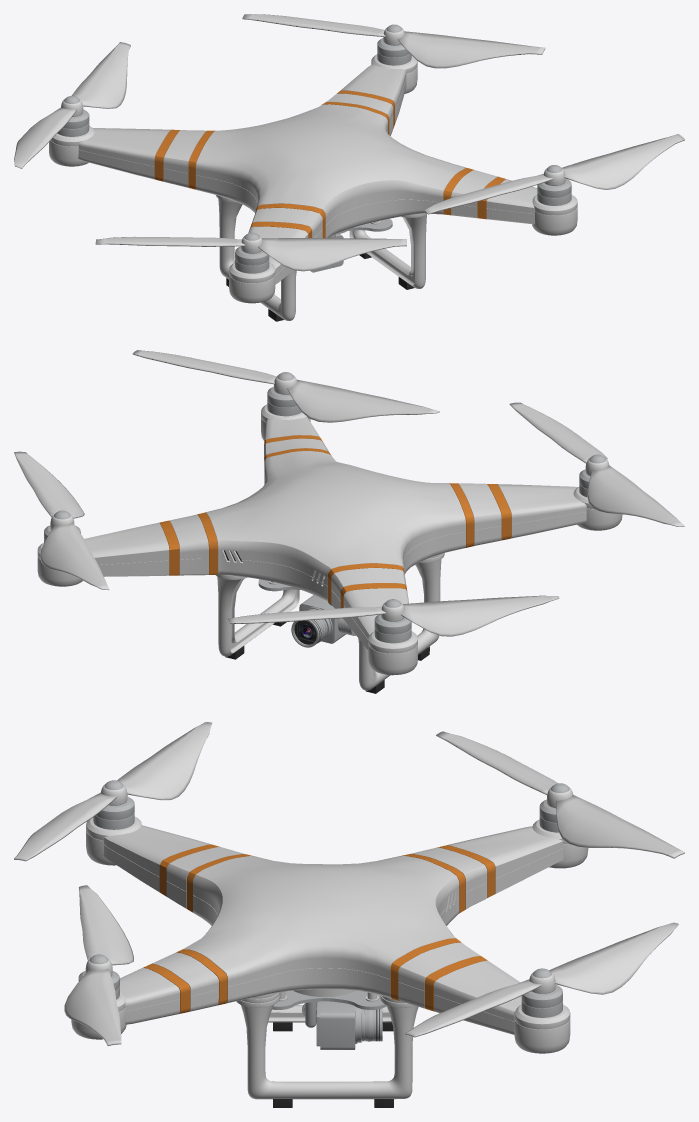
Rendered from SM_FBJD_Boy2.glb.
The picture shows the model from 3 angles, top to bottom: view 1: azimuth 30°, elevation 25°; view 2: azimuth 150°, elevation 25°; view 3: azimuth 270°, elevation 25°; orthographic projection. The views are drawn at different scales.
Parts seen in each view (by area): view 1: SM_XMH_EM_WRJ_002, SM_XMH_EM_WRJ_01_SY_006, SM_XMH_EM_WRJ_01_SY_008, SM_XMH_EM_WRJ_01_SY_005, SM_XMH_EM_WRJ_01_SY_007; view 2: SM_XMH_EM_WRJ_002, SM_XMH_EM_WRJ_01_SY_007, SM_XMH_EM_WRJ_01_SY_005, SM_XMH_EM_WRJ_01_SY_006, SM_XMH_EM_WRJ_01_SY_008; view 3: SM_XMH_EM_WRJ_002, SM_XMH_EM_WRJ_01_SY_008, SM_XMH_EM_WRJ_01_SY_007, SM_XMH_EM_WRJ_01_SY_006, SM_XMH_EM_WRJ_01_SY_005.
Boxes of the visible parts, x1,y1,x2,y2 form: SM_XMH_EM_WRJ_002: (49, 38, 577, 321); SM_XMH_EM_WRJ_01_SY_006: (95, 232, 406, 271); SM_XMH_EM_WRJ_01_SY_008: (242, 14, 545, 68); SM_XMH_EM_WRJ_01_SY_005: (424, 134, 684, 214); SM_XMH_EM_WRJ_01_SY_007: (14, 42, 130, 168); SM_XMH_EM_WRJ_002: (37, 386, 622, 693); SM_XMH_EM_WRJ_01_SY_007: (228, 595, 559, 636); SM_XMH_EM_WRJ_01_SY_005: (132, 350, 439, 422); SM_XMH_EM_WRJ_01_SY_006: (509, 402, 684, 526); SM_XMH_EM_WRJ_01_SY_008: (14, 451, 109, 589); SM_XMH_EM_WRJ_002: (71, 797, 588, 1107); SM_XMH_EM_WRJ_01_SY_008: (405, 922, 678, 1037); SM_XMH_EM_WRJ_01_SY_007: (436, 731, 684, 858); SM_XMH_EM_WRJ_01_SY_006: (14, 722, 212, 861); SM_XMH_EM_WRJ_01_SY_005: (64, 885, 133, 1045).
Size of the model in its own units: 1.56 by 0.431 by 1.37.
Materials: 8 (1 with a texture image).
